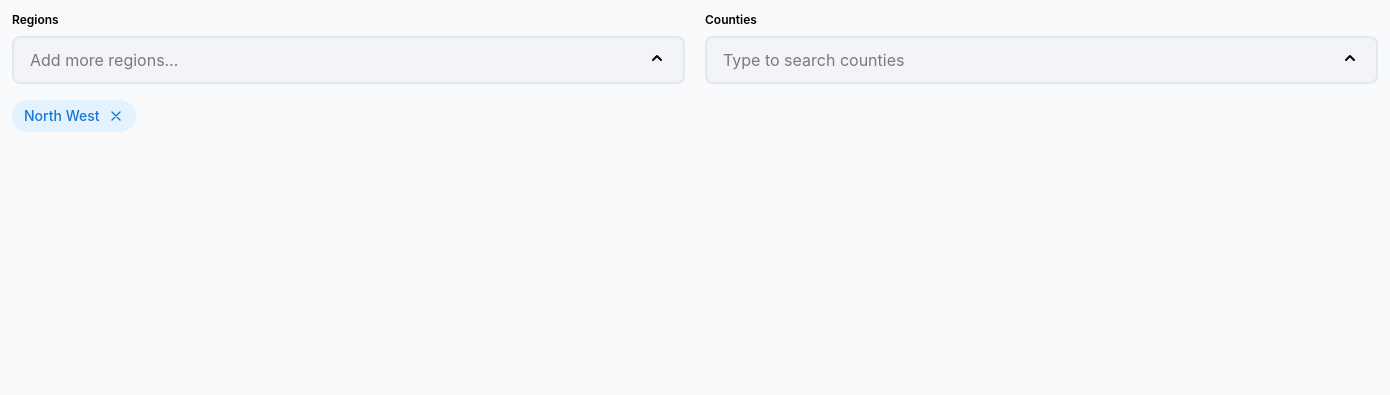
Test: RegionCountiesFormSection › TR-3.3: counties listbox filtered to NW counties only when NW is the sole selected region
The image size is (1390, 395).
Click the dropdown labelled "Counties".
click(1032, 60)  # box [723,48,1340,72]
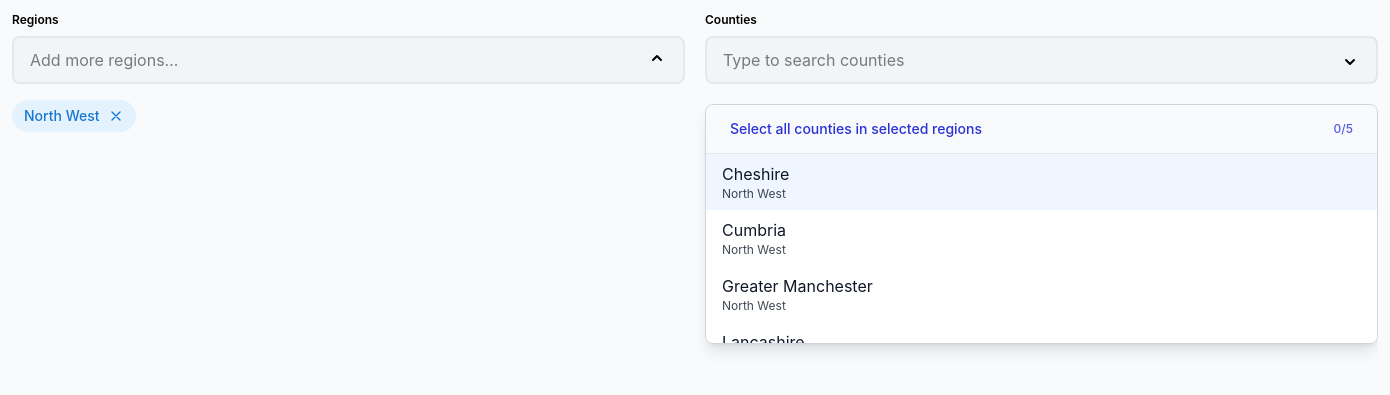
Now the list is shown, box [705,104,1378,344]
Now the list shows "Cheshire", box [706,154,1377,210]
Now the list shows "Cumbria", box [706,210,1377,266]
